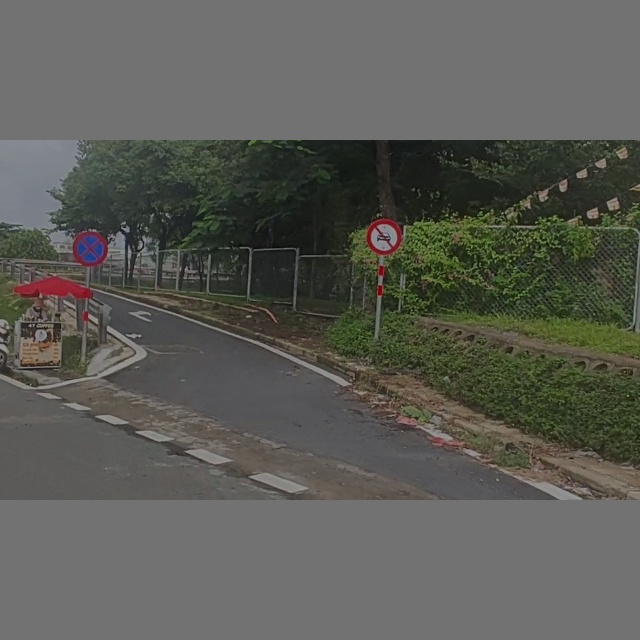P.103a: (367, 218, 402, 255)
P.130: (72, 231, 109, 269)
